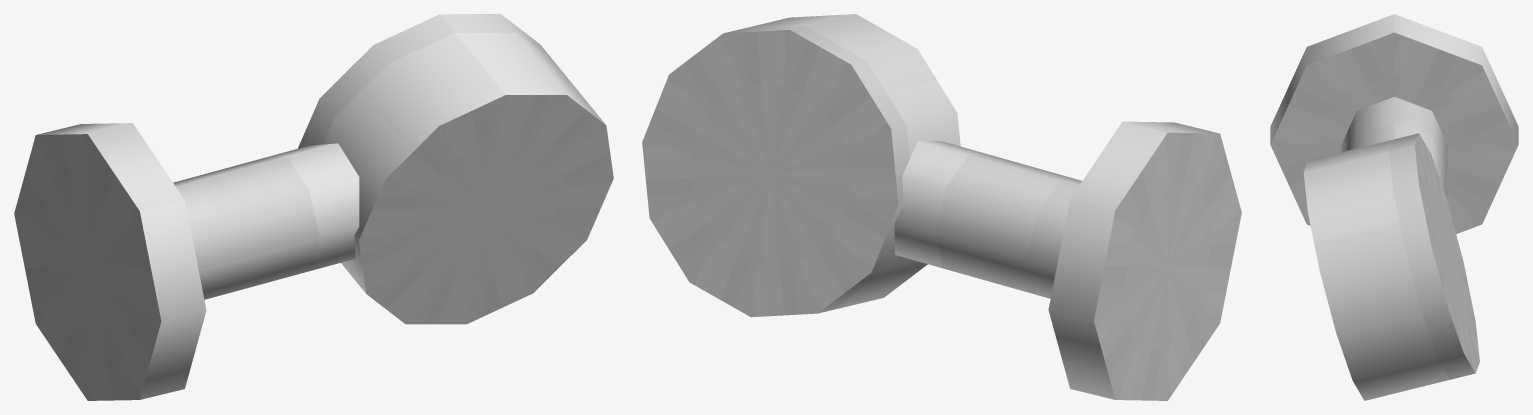
The model's file is trusssignalarm_stub_110.obj.
The picture shows the model from 3 angles, left to right: view 1: azimuth 30°, elevation 25°; view 2: azimuth 150°, elevation 25°; view 3: azimuth 270°, elevation 25°; orthographic projection. The views are drawn at different scales.
Visible parts, largest first — view 1: trusssignalarm_stub_110; view 2: trusssignalarm_stub_110; view 3: trusssignalarm_stub_110.
Boxes of the visible parts, x1,y1,x2,y2 form: trusssignalarm_stub_110: (14,14,613,400); trusssignalarm_stub_110: (642,14,1241,400); trusssignalarm_stub_110: (1270,14,1518,400).
Size of the model in its own units: 0.6744 by 0.3804 by 0.35.
